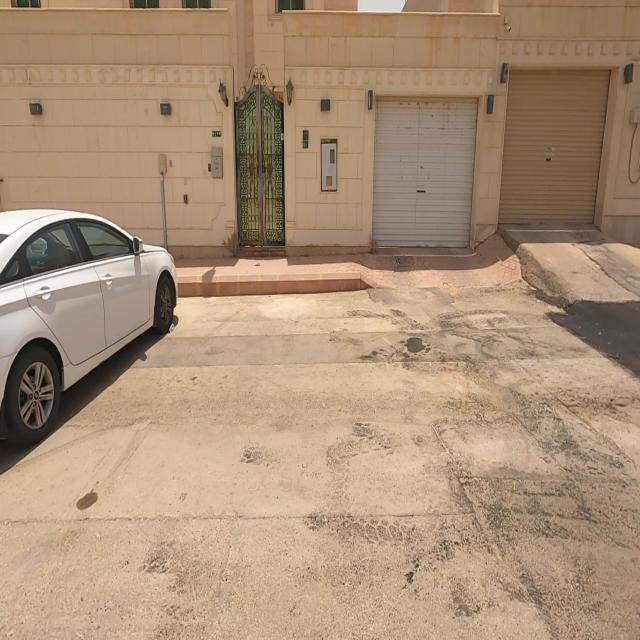debris: (414, 393, 530, 608), (359, 280, 467, 444)
